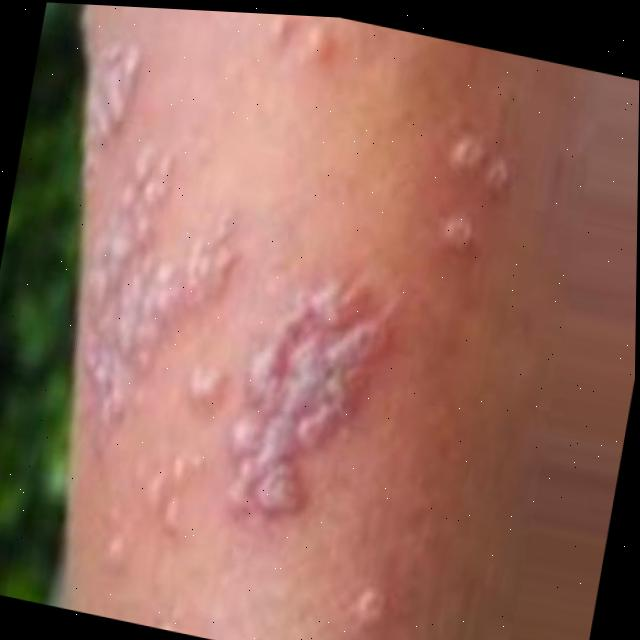Shingles: (14, 22, 527, 591)
